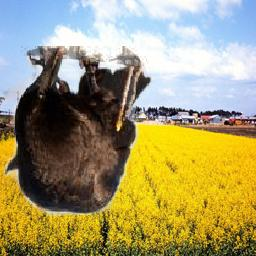Crow: (0, 46, 153, 216)
